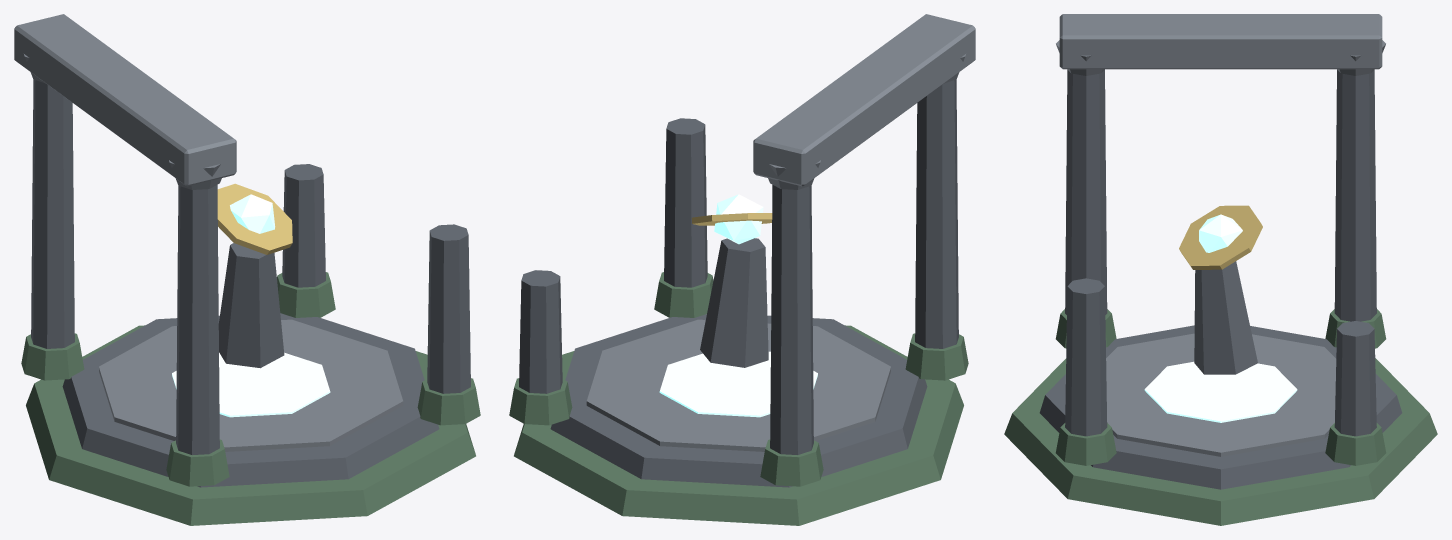
File: outdoor_gazebo.glb
3 renders of one model, left to right at view 1: azimuth 30°, elevation 25°; view 2: azimuth 150°, elevation 25°; view 3: azimuth 270°, elevation 25°, orthographic. The views are drawn at different scales.
Visible parts, largest first — view 1: Outdoor_Gazebo; view 2: Outdoor_Gazebo; view 3: Outdoor_Gazebo.
Part boxes in pixels (box(x1,y1,x2,y2)): Outdoor_Gazebo: box(14, 14, 480, 525); Outdoor_Gazebo: box(509, 14, 975, 525); Outdoor_Gazebo: box(1004, 14, 1437, 525).
Size of the model in its own units: 6.11 by 5.48 by 6.11.
